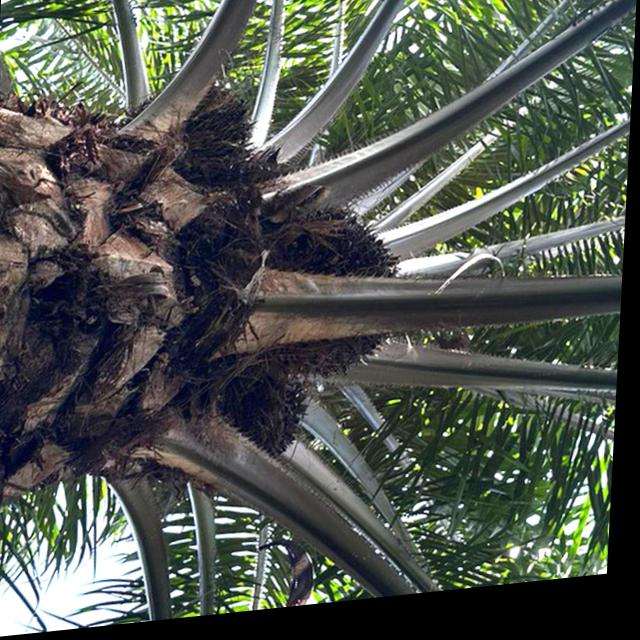ripe: (274, 206, 415, 403)
